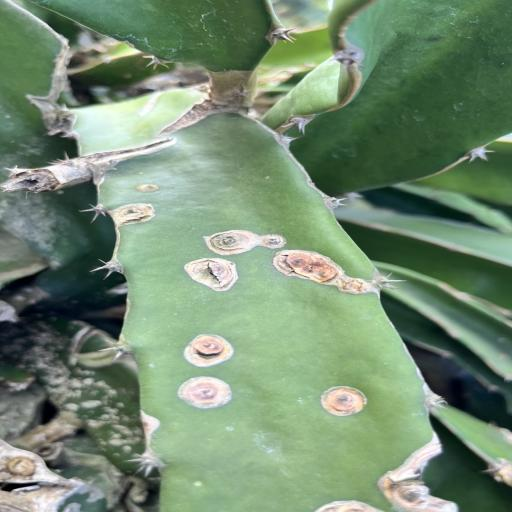stemcanker: (191, 478, 209, 490)
